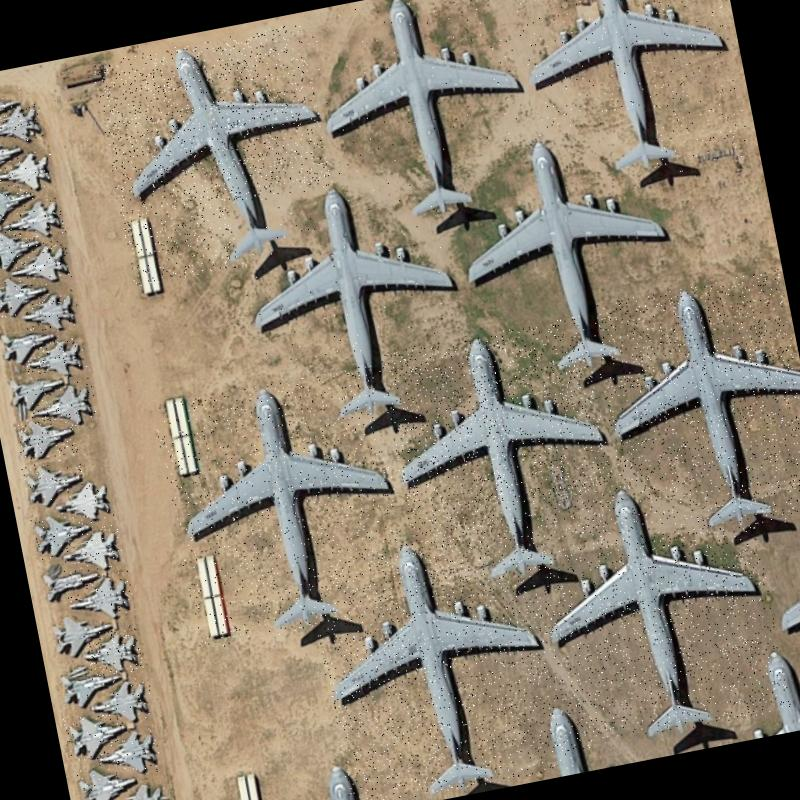A13: (26, 376, 98, 434), (84, 673, 157, 729), (62, 706, 132, 764), (94, 724, 162, 782), (64, 569, 136, 623), (20, 454, 88, 510), (49, 604, 117, 660), (56, 524, 125, 576), (81, 624, 144, 680), (6, 238, 73, 289), (30, 507, 94, 560), (0, 193, 66, 244), (13, 411, 79, 462), (52, 474, 114, 528), (17, 286, 81, 338), (23, 334, 88, 384), (72, 757, 141, 800), (0, 145, 57, 195), (0, 270, 53, 320), (0, 100, 45, 151), (0, 224, 44, 273), (0, 178, 39, 228), (99, 778, 173, 800), (0, 79, 26, 137), (0, 132, 27, 181)
A4: (524, 460, 791, 750), (152, 364, 418, 651), (303, 520, 573, 800), (376, 315, 628, 595), (440, 116, 690, 392), (228, 166, 479, 437), (91, 22, 345, 287), (586, 268, 800, 551), (302, 0, 541, 235), (506, 0, 751, 197)
